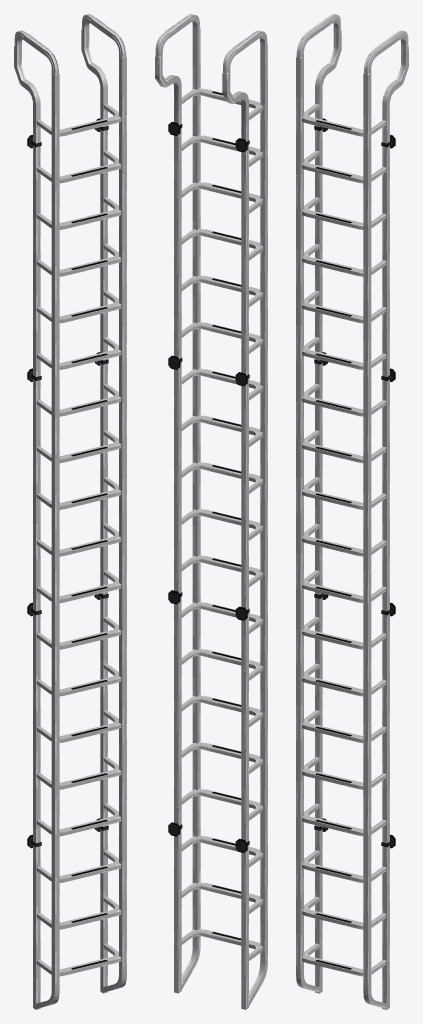
File: Ladder_Default_8M_01.FBX
3 renders of one model, left to right at view 1: azimuth 30°, elevation 25°; view 2: azimuth 150°, elevation 25°; view 3: azimuth 330°, elevation 25°, orthographic.
Visible parts, largest first — view 1: Ladder_Default_8M_01; view 2: Ladder_Default_8M_01; view 3: Ladder_Default_8M_01.
Part boxes in pixels (<box>): Ladder_Default_8M_01: <box>14,14,126,1009</box>; Ladder_Default_8M_01: <box>155,14,267,1009</box>; Ladder_Default_8M_01: <box>296,14,408,1009</box>.
Size of the model in its own units: 0.7023 by 8.29 by 0.6333.
